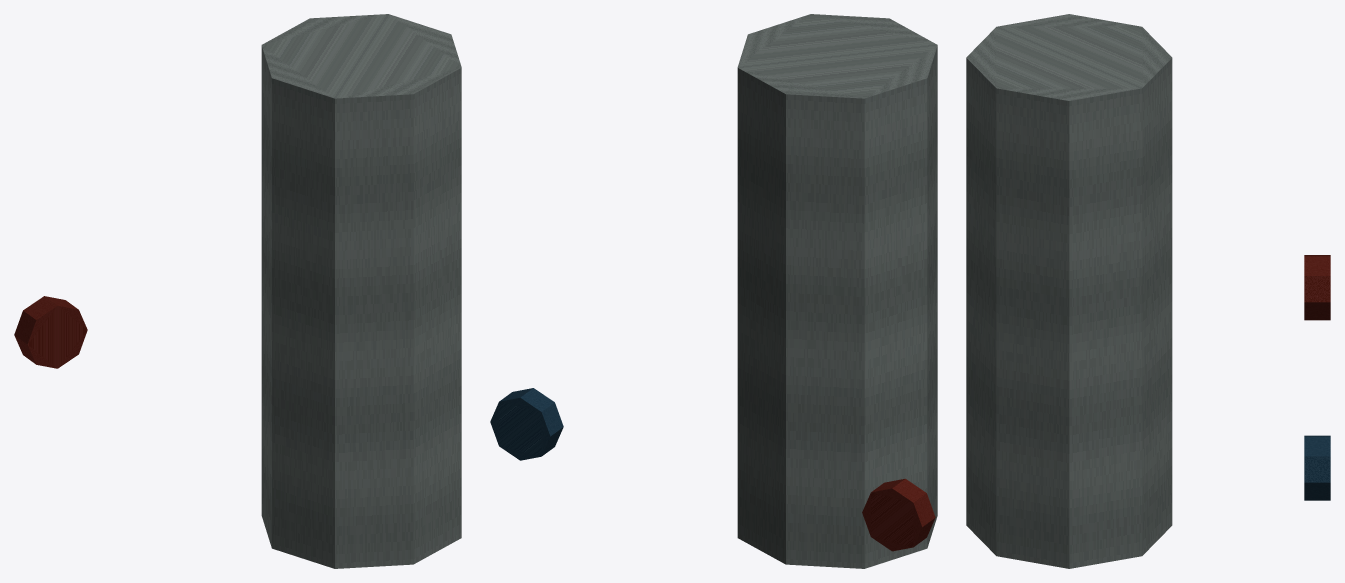
File: level_castle_plant_connections.glb
3 renders of one model, left to right at view 1: azimuth 30°, elevation 25°; view 2: azimuth 150°, elevation 25°; view 3: azimuth 270°, elevation 25°, orthographic.
Visible parts, largest first — view 1: Hot return sleeve meets exact source terminal and east mason; view 2: Hot return sleeve meets exact source terminal and east mason; view 3: Hot return sleeve meets exact source terminal and east mason.
Boxes of the visible parts, x1,y1,x2,y2 form: Hot return sleeve meets exact source terminal and east mason: (14,14,461,568); Hot return sleeve meets exact source terminal and east mason: (490,14,937,568); Hot return sleeve meets exact source terminal and east mason: (966,14,1330,568).
Size of the model in its own units: 0.674 by 0.701 by 0.495.
3 materials, 3 textured.
